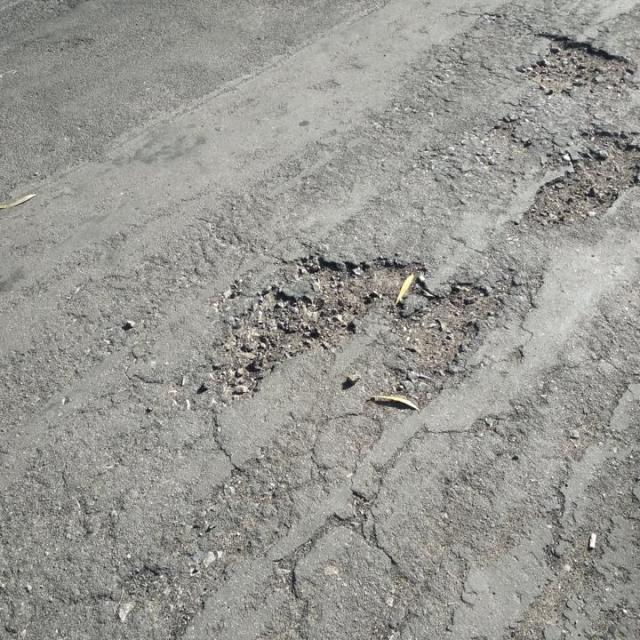pothole: (212, 252, 500, 412), (516, 124, 640, 231), (517, 32, 639, 100)
